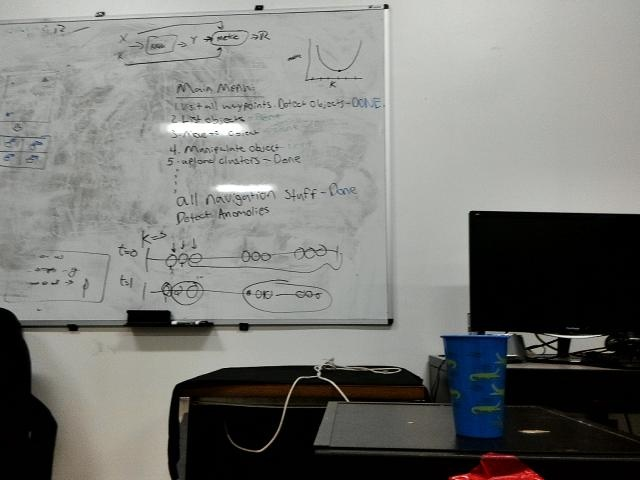water_cup: (437, 327, 521, 439)
